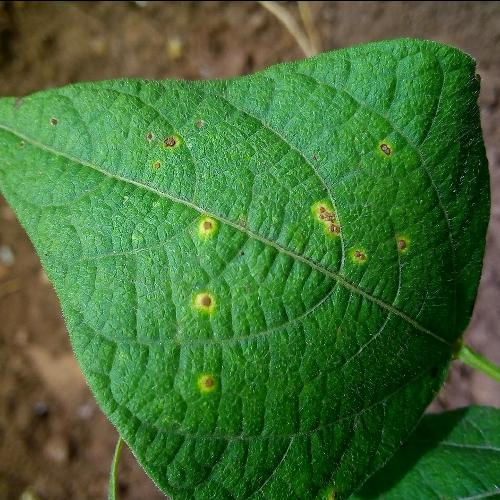hawar: (139, 113, 206, 176)
mozaik: (215, 73, 450, 472)
